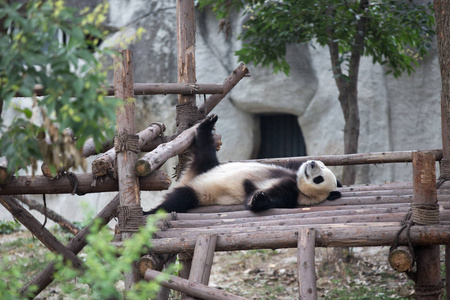panda: (162, 114, 344, 218)
